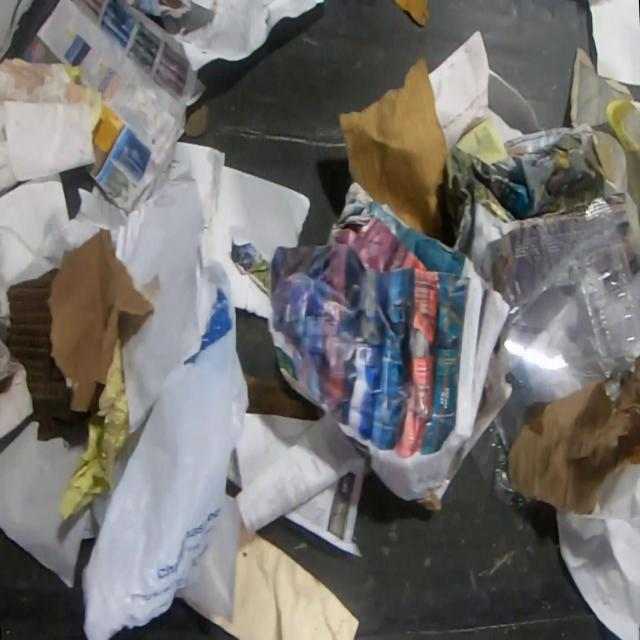cardboard: (336, 53, 448, 246), (414, 370, 514, 512), (5, 267, 90, 426), (242, 370, 320, 421), (183, 97, 211, 139), (394, 0, 432, 28)
rigid_plastic: (497, 284, 616, 404)
soft_plastic: (492, 196, 640, 403), (470, 373, 536, 511)
